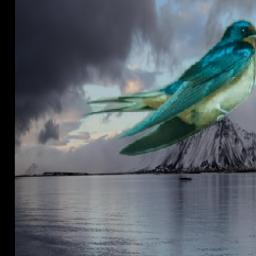Swallow: (82, 18, 256, 156)
